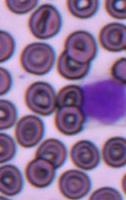L: (78, 76, 126, 124)
